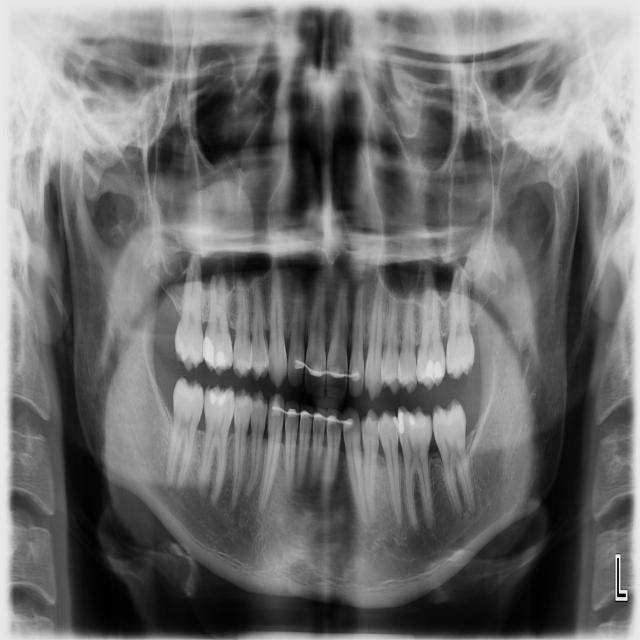mandibula: (59, 113, 581, 607)
